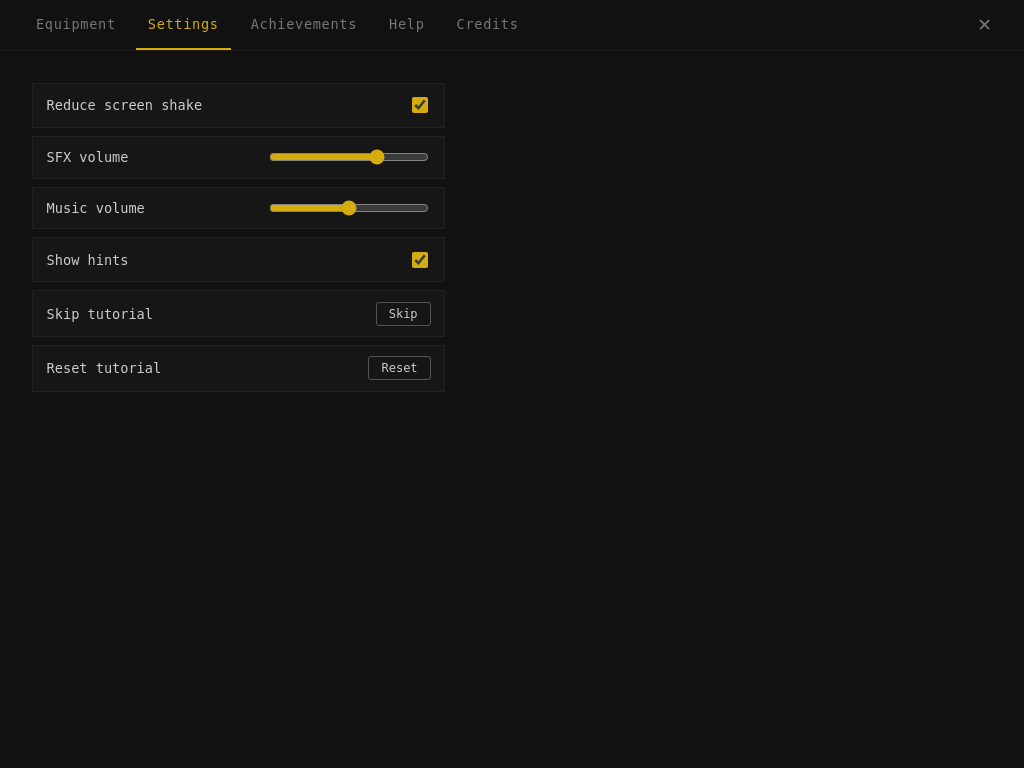
Test: CharacterScreen › hints › the skip button marks the tutorial as skipped and then reads Skipped, disabled
Click the button with class "skip-tutorial-btn": (403, 314) [376,302,431,326]
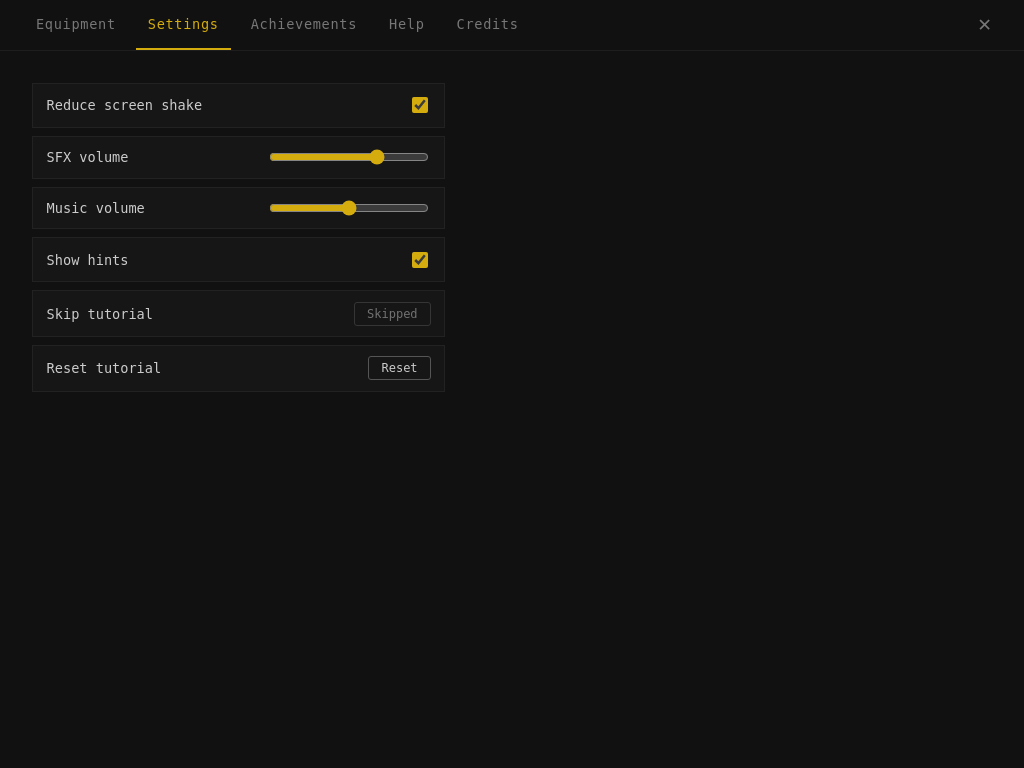
Now the button with class "skip-tutorial-btn" reads "Skipped", box [354,302,431,326]
Now the button with class "skip-tutorial-btn" is disabled, box [354,302,431,326]
